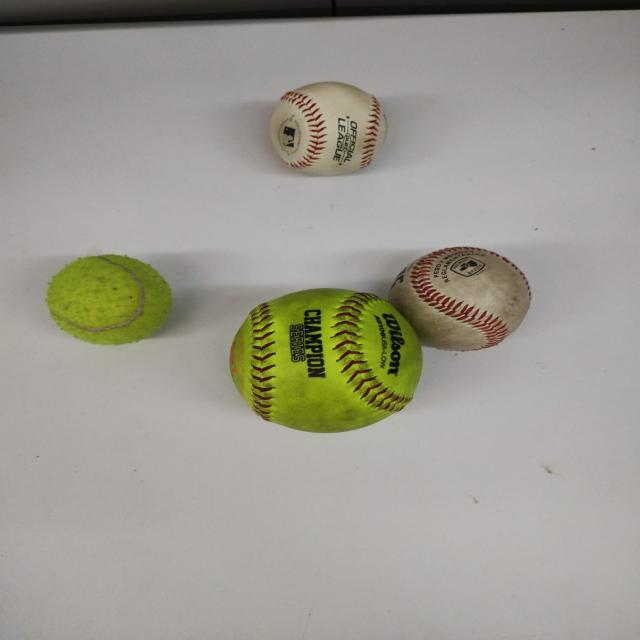beisbol ball: (386, 248, 530, 352), (270, 82, 388, 176)
softball ball: (228, 289, 422, 432)
tenis ball: (42, 254, 170, 343)
